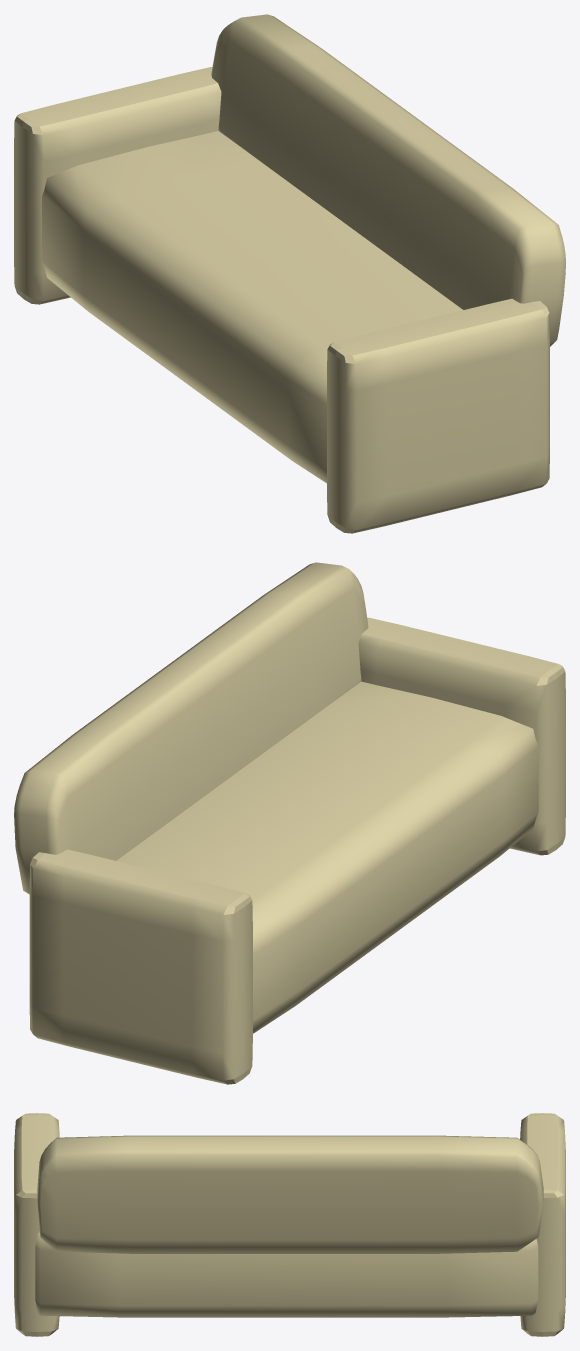
The model's file is sofa textured.fbx.
3 views of the same model, one above another, from view 1: azimuth 30°, elevation 25°; view 2: azimuth 150°, elevation 25°; view 3: azimuth 270°, elevation 25° (orthographic). The views are drawn at different scales.
Parts seen in each view (by area): view 1: Sofa Sofa, Back, Side.001, Side; view 2: Sofa Sofa, Back, Side, Side.001; view 3: Back, Sofa Sofa, Side, Side.001.
Boxes of the visible parts, box(x1,y1,x2,y2) form: Sofa Sofa: box(42, 131, 463, 483); Back: box(211, 14, 565, 346); Side.001: box(327, 298, 549, 533); Side: box(14, 67, 221, 304); Sofa Sofa: box(116, 681, 538, 1033); Back: box(14, 562, 368, 894); Side: box(29, 849, 252, 1084); Side.001: box(358, 617, 565, 855); Back: box(37, 1135, 543, 1253); Sofa Sofa: box(35, 1232, 538, 1317); Side: box(520, 1113, 565, 1336); Side.001: box(14, 1113, 59, 1336).
Bounding box in the file's own units: 1465 × 1476 × 3678.
